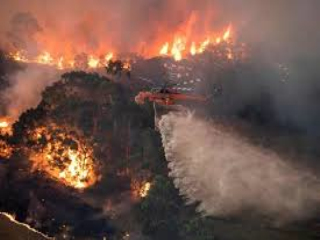fire: (20, 29, 237, 71), (25, 134, 104, 189), (1, 113, 14, 139)
smoke: (151, 108, 301, 219), (8, 66, 55, 112)
